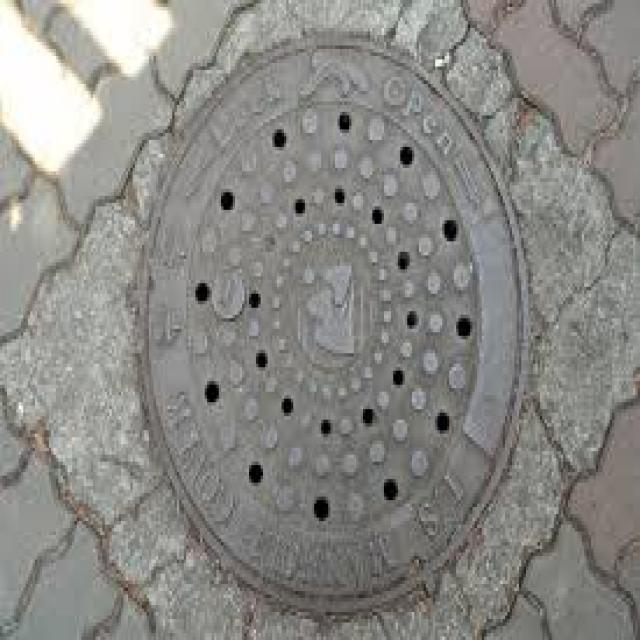Sewer Cover: (105, 19, 562, 640)
